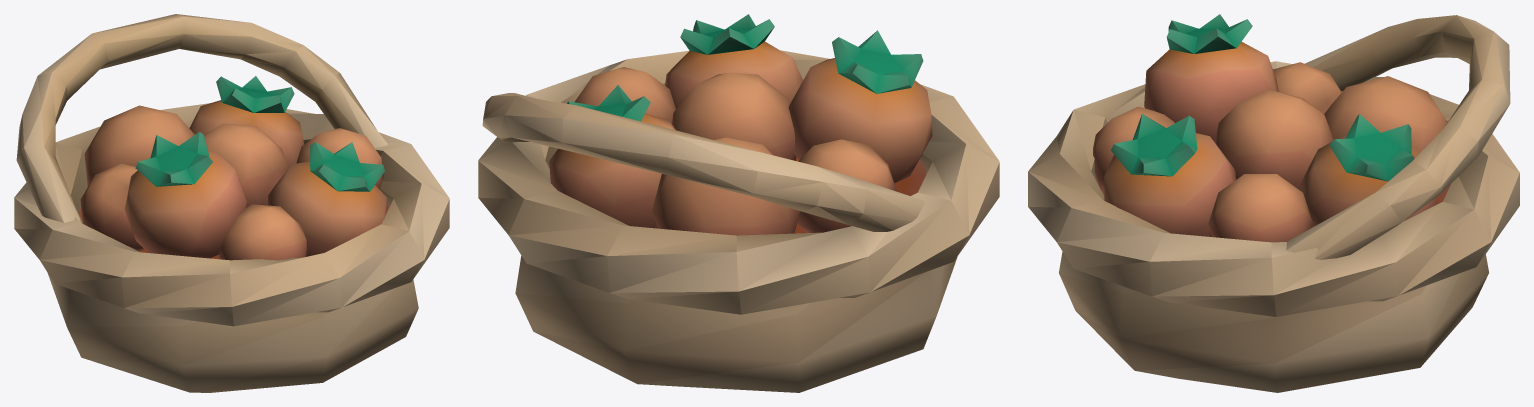
Rendered from prop_basket_berries.glb.
3 views of the same model, side by side, from view 1: azimuth 30°, elevation 25°; view 2: azimuth 150°, elevation 25°; view 3: azimuth 270°, elevation 25° (orthographic). The views are drawn at different scales.
Parts seen in each view (by area): view 1: refined; view 2: refined; view 3: refined.
Part boxes in pixels (x1,y1,x2,y2): refined: (14, 14, 449, 392); refined: (478, 14, 999, 392); refined: (1028, 14, 1519, 392).
Bounding box in the file's own units: 0.9436 × 0.5757 × 0.9252.
